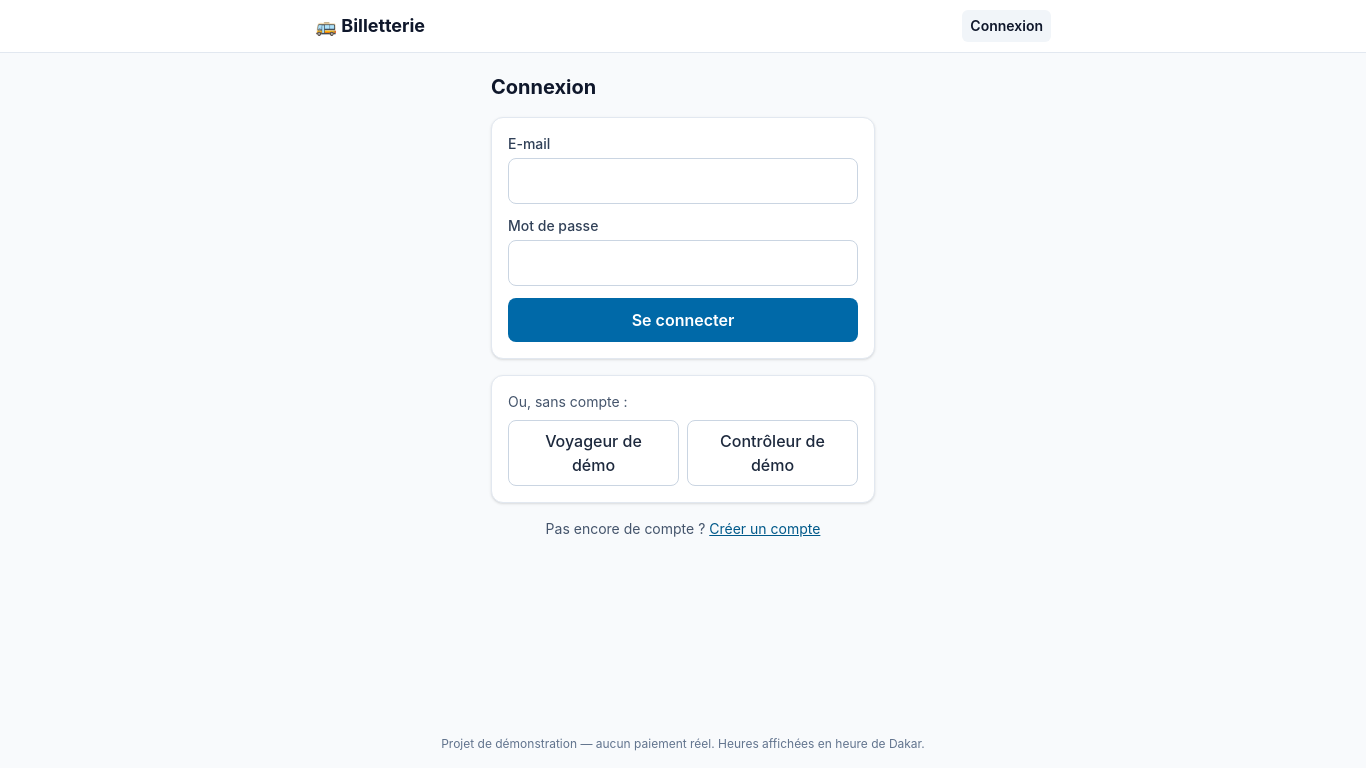
it: connexion › connecte et revient à la page demandée (chemin interne seulement)
The width and height of the screenshot is (1366, 768).
Step 1. Type "  Awa@Example.com " into the field labelled "E-mail" → (683, 181), box [508,158,858,204]
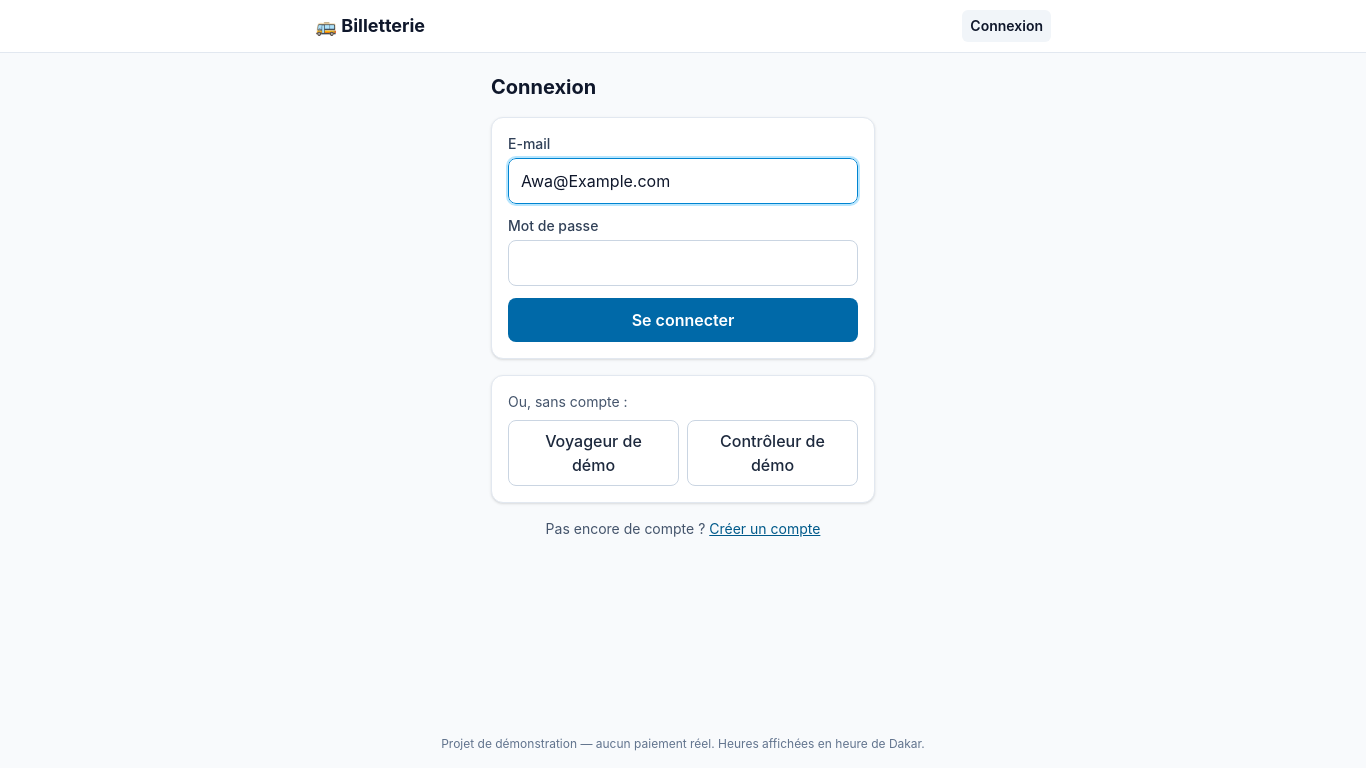
Step 2. Type "motdepasse" into the password field labelled "Mot de passe" → (683, 263), box [508,240,858,286]
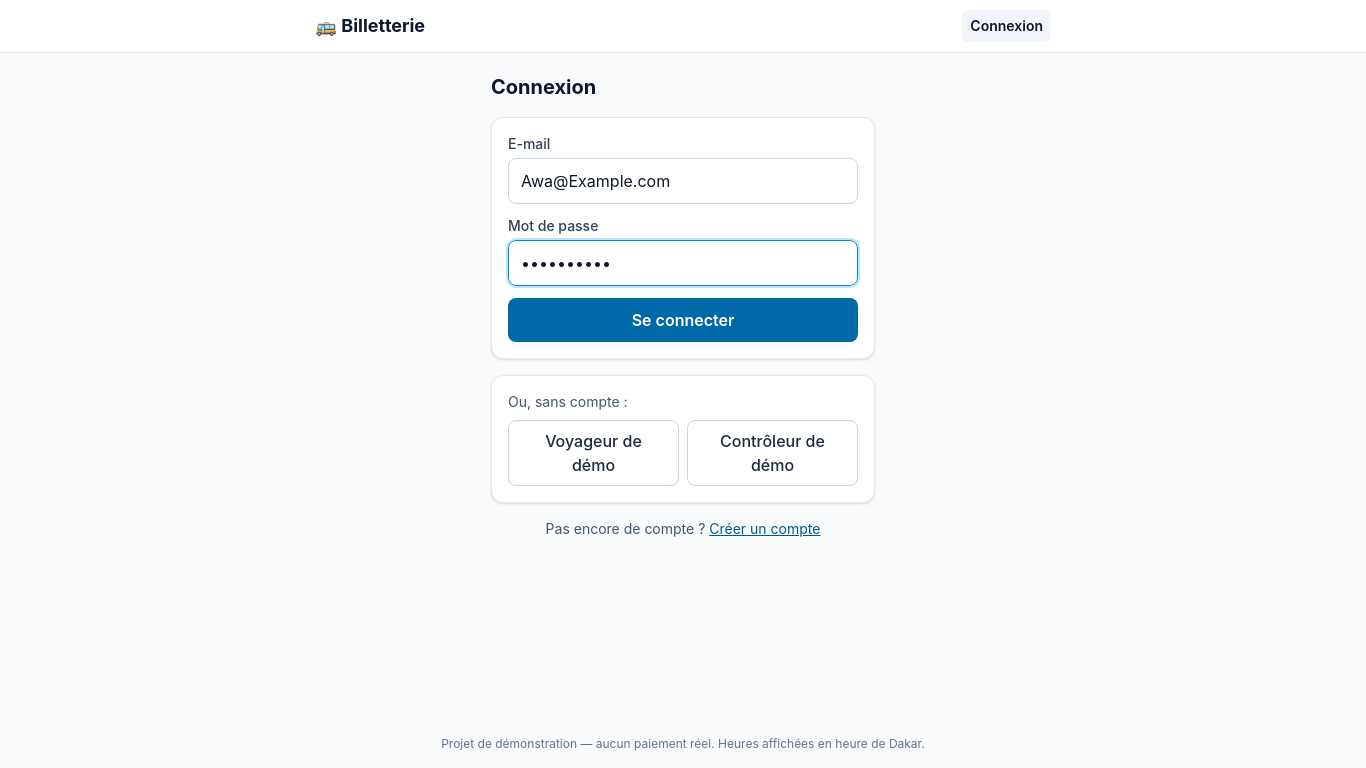
Step 3. Click the button "Se connecter" → (683, 320), box [508,298,858,342]
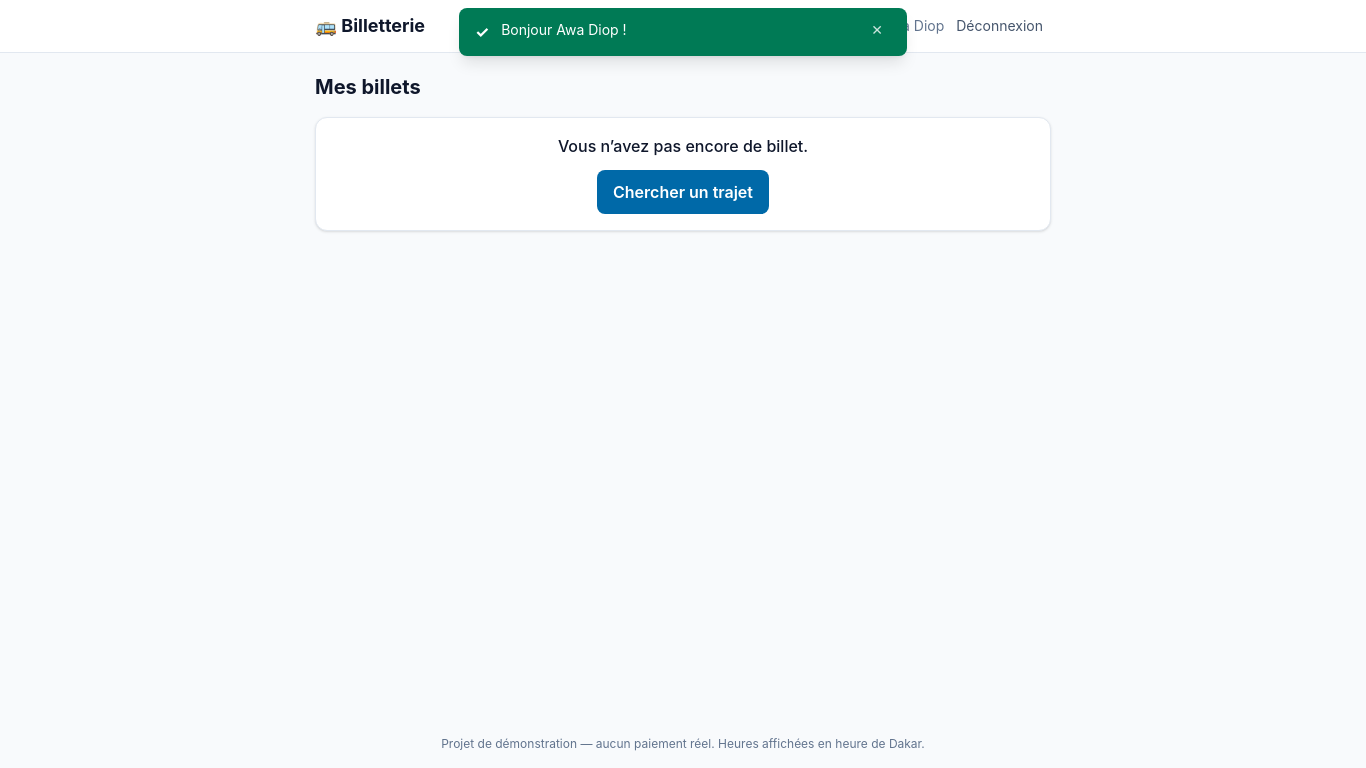
Result: the text "Awa Diop" is shown at [882,16,944,36]
Result: the text "Bonjour Awa Diop !" is shown at [501,21,627,38]
